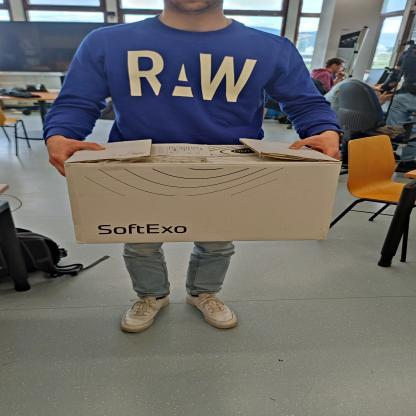-: (46, 134, 340, 246)
